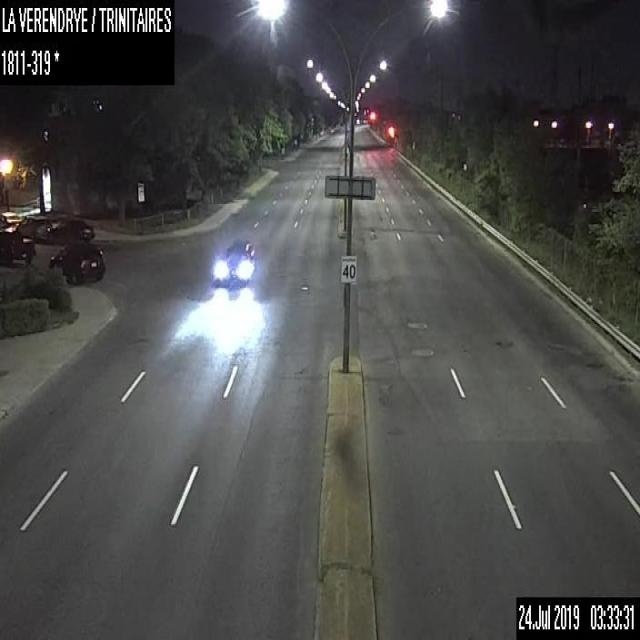vehicle: (49, 240, 106, 284), (212, 237, 254, 284), (0, 227, 35, 266), (51, 217, 94, 241), (15, 214, 52, 240), (0, 210, 22, 230)
